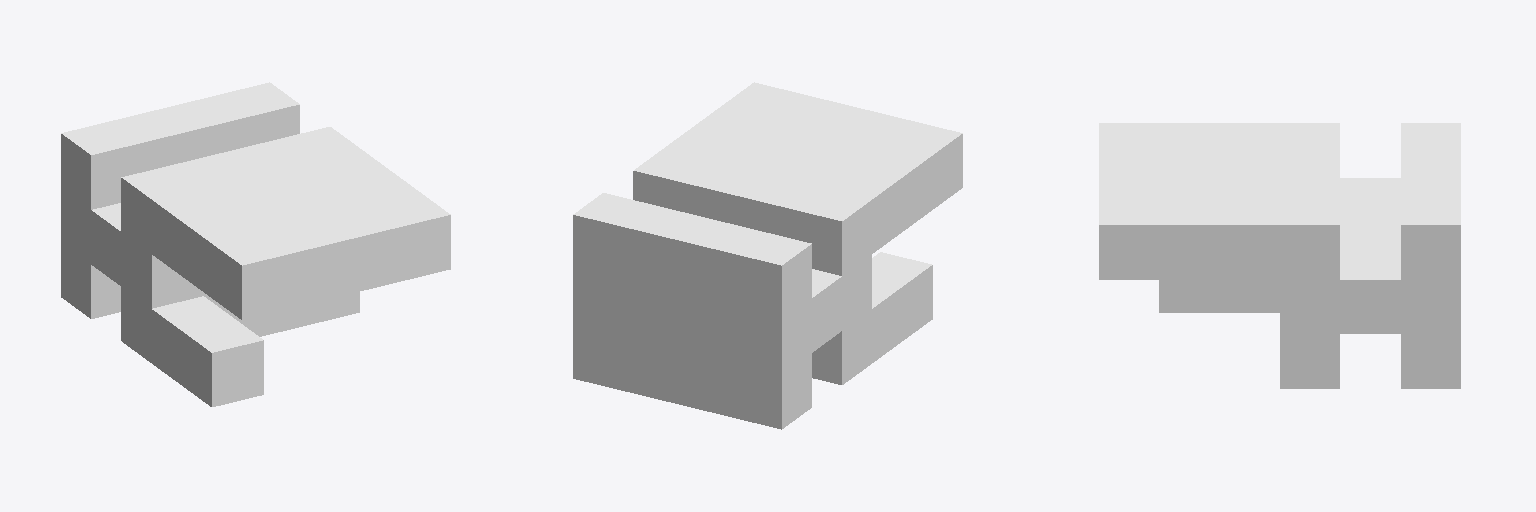
The model's file is handLeft.obj.
3 views of the same model, side by side, from view 1: azimuth 30°, elevation 25°; view 2: azimuth 150°, elevation 25°; view 3: azimuth 270°, elevation 25° (orthographic).
Bounding box in the file's own units: 4 × 3 × 6.